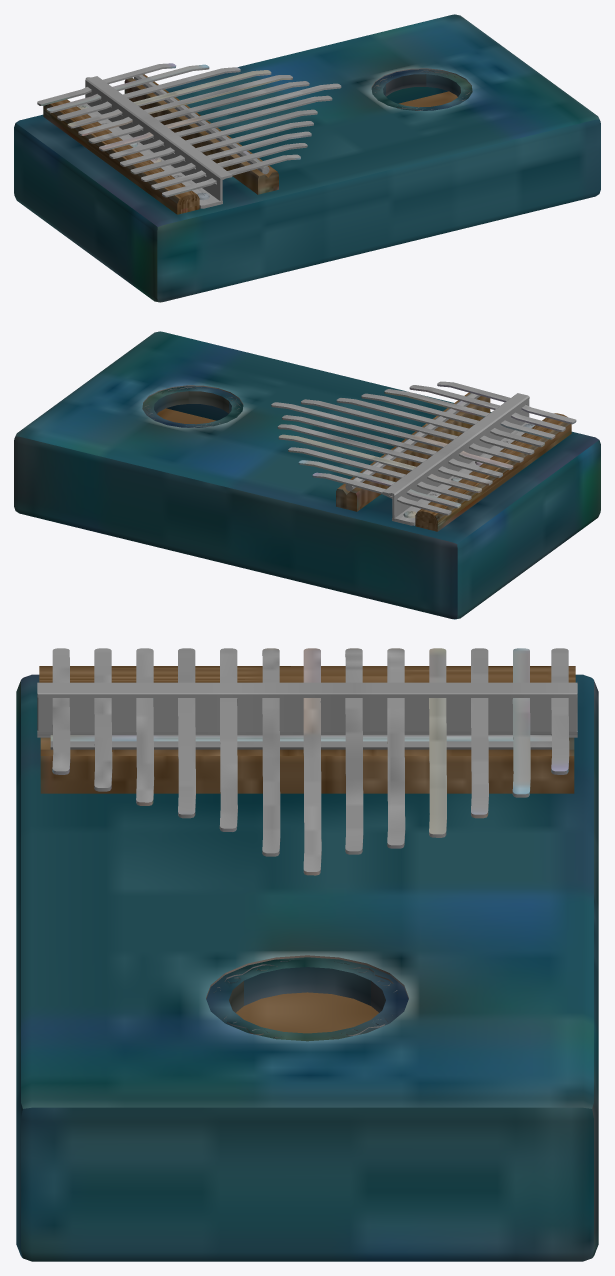
3 views of the same model, one above another, from view 1: azimuth 30°, elevation 25°; view 2: azimuth 150°, elevation 25°; view 3: azimuth 270°, elevation 25° (orthographic). The views are drawn at different scales.
Visible parts, largest first — view 1: polySurface17; view 2: polySurface17; view 3: polySurface17.
Boxes of the visible parts, left/top/right/bottom form: polySurface17: left=14, top=14, right=600, bottom=302; polySurface17: left=14, top=331, right=600, bottom=619; polySurface17: left=16, top=648, right=598, bottom=1261.
Bounding box in the file's own units: 1.61 × 0.377 × 0.9058.
1 material, 1 textured.
